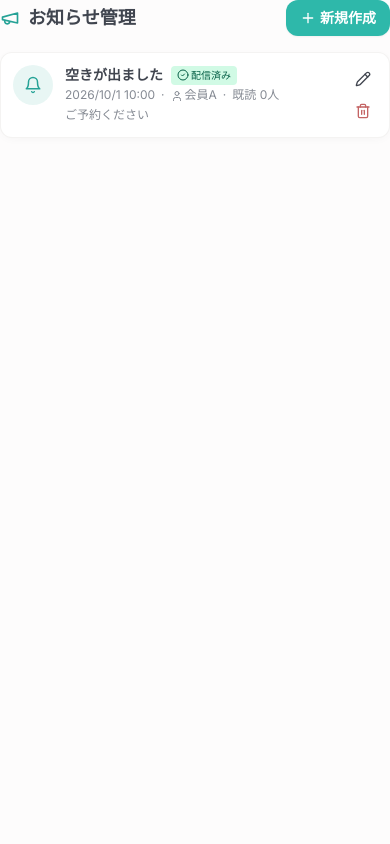
お知らせ管理の画面 › 🔴 古い1人向け（target=<user_id>）は「個別」のその1人として開ける
Expected: the heading "お知らせ管理" is shown, [0,4,136,32]
Click the button named "編集".
click(363, 79)  # box [349,65,377,93]
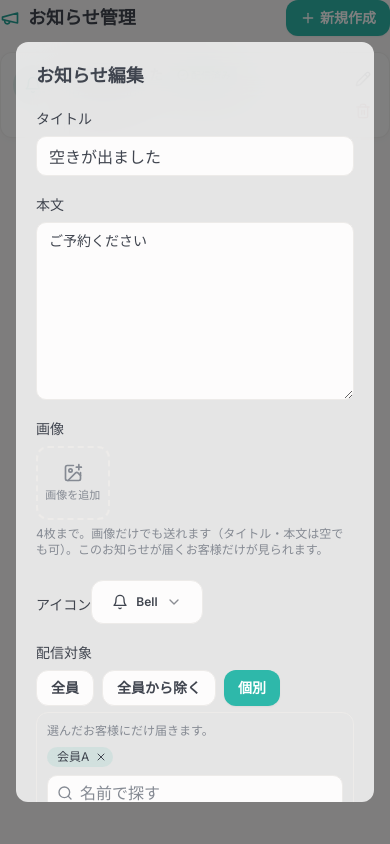
Result: the text "会員A" is shown at [57,749,89,765]
